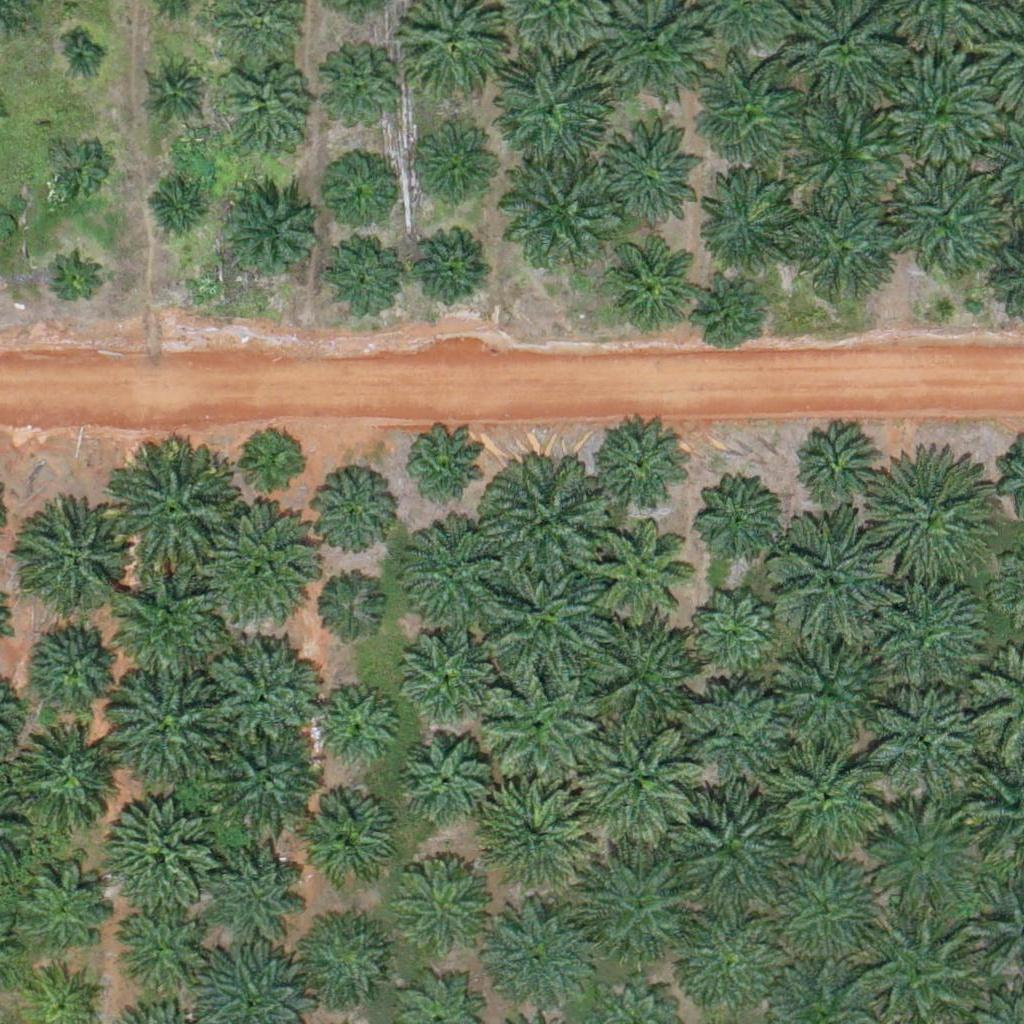Kelapa_Sawit: (867, 460, 992, 586), (774, 518, 899, 644), (582, 719, 707, 845), (481, 459, 606, 585), (111, 454, 236, 580), (485, 553, 610, 678), (475, 781, 588, 895), (211, 509, 324, 623), (7, 722, 120, 836), (871, 582, 984, 695), (770, 859, 883, 972), (773, 743, 886, 856), (671, 790, 784, 903), (585, 852, 698, 965), (486, 666, 599, 779), (400, 514, 513, 627), (114, 572, 227, 685), (105, 673, 218, 786), (102, 793, 215, 906), (788, 198, 901, 311), (790, 95, 903, 208), (692, 49, 805, 162), (502, 151, 615, 264), (874, 803, 986, 916), (767, 637, 879, 750), (670, 906, 782, 1019), (587, 619, 699, 732), (477, 904, 589, 1017), (211, 724, 323, 837), (206, 637, 318, 750), (887, 51, 999, 164), (890, 166, 1002, 279), (594, 127, 706, 240), (493, 51, 605, 164), (872, 691, 972, 792), (687, 685, 787, 786), (594, 528, 694, 629), (592, 417, 692, 518), (209, 831, 309, 932), (29, 615, 129, 716), (698, 169, 798, 270), (218, 182, 318, 283), (298, 793, 398, 893), (24, 513, 124, 613), (308, 471, 396, 560), (399, 629, 487, 717), (309, 683, 397, 771), (108, 907, 196, 995), (602, 239, 690, 327), (221, 67, 309, 155), (400, 425, 487, 513), (402, 859, 489, 947), (401, 733, 488, 821), (303, 914, 390, 1002), (407, 120, 494, 208), (310, 576, 385, 652), (799, 434, 874, 510), (700, 482, 775, 558), (698, 599, 773, 675), (415, 236, 490, 312), (323, 58, 398, 134), (326, 240, 401, 316), (323, 163, 386, 226), (147, 181, 210, 244), (244, 428, 307, 491), (42, 136, 105, 199), (697, 280, 760, 343), (48, 258, 98, 309), (150, 66, 200, 116), (63, 39, 100, 77)
